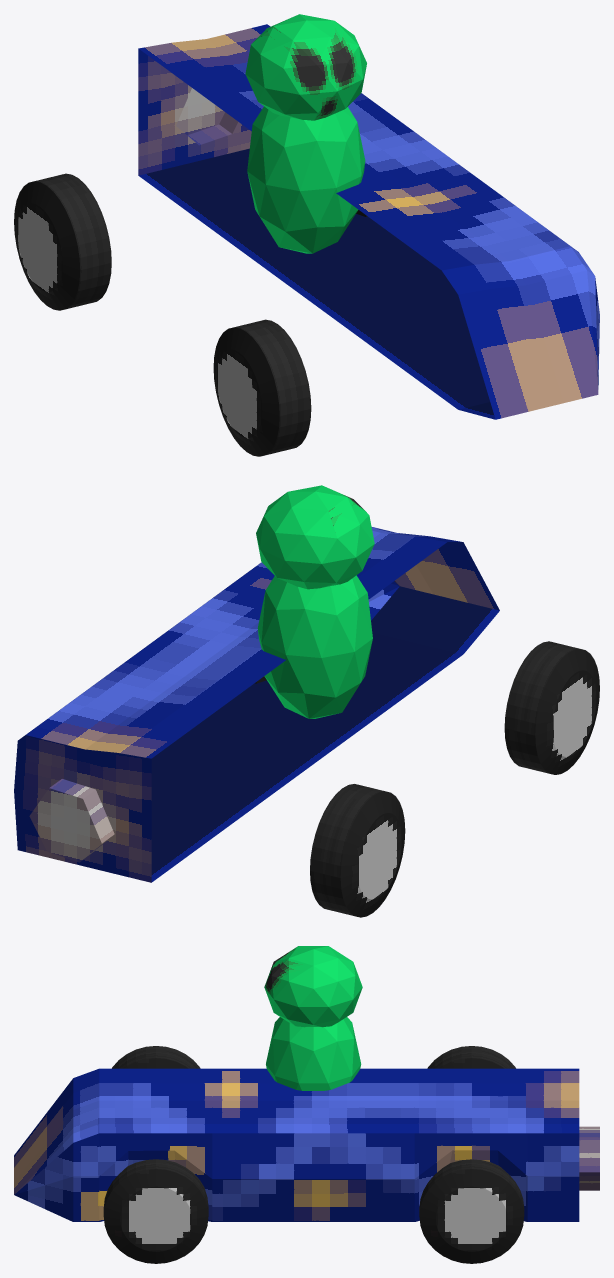
File: proto_kart1.gltf
3 views of the same model, one above another, from view 1: azimuth 30°, elevation 25°; view 2: azimuth 150°, elevation 25°; view 3: azimuth 270°, elevation 25° (orthographic). The views are drawn at different scales.
Visible parts, largest first — view 1: Cube, Icosphere.001, Cylinder.001, Cylinder; view 2: Cube, Icosphere.001, Cylinder, Cylinder.001; view 3: Cube, Icosphere.001, Cylinder.002, Cylinder.003, Cylinder.001, Cylinder.
Part boxes in pixels (<box>): Cube: <box>138,24,599,419</box>; Icosphere.001: <box>245,14,366,253</box>; Cylinder.001: <box>14,173,111,310</box>; Cylinder: <box>213,319,311,456</box>; Cube: <box>14,527,499,882</box>; Icosphere.001: <box>256,485,374,718</box>; Cylinder: <box>504,641,599,774</box>; Cylinder.001: <box>310,784,405,917</box>; Cube: <box>14,1068,599,1221</box>; Icosphere.001: <box>264,946,362,1090</box>; Cylinder.002: <box>103,1159,208,1263</box>; Cylinder.003: <box>419,1159,524,1263</box>; Cylinder.001: <box>427,1046,515,1068</box>; Cylinder: <box>112,1046,200,1068</box>.
Bounding box in the file's own units: 5.81 × 5.33 × 11.18.
3 materials, 3 textured.
